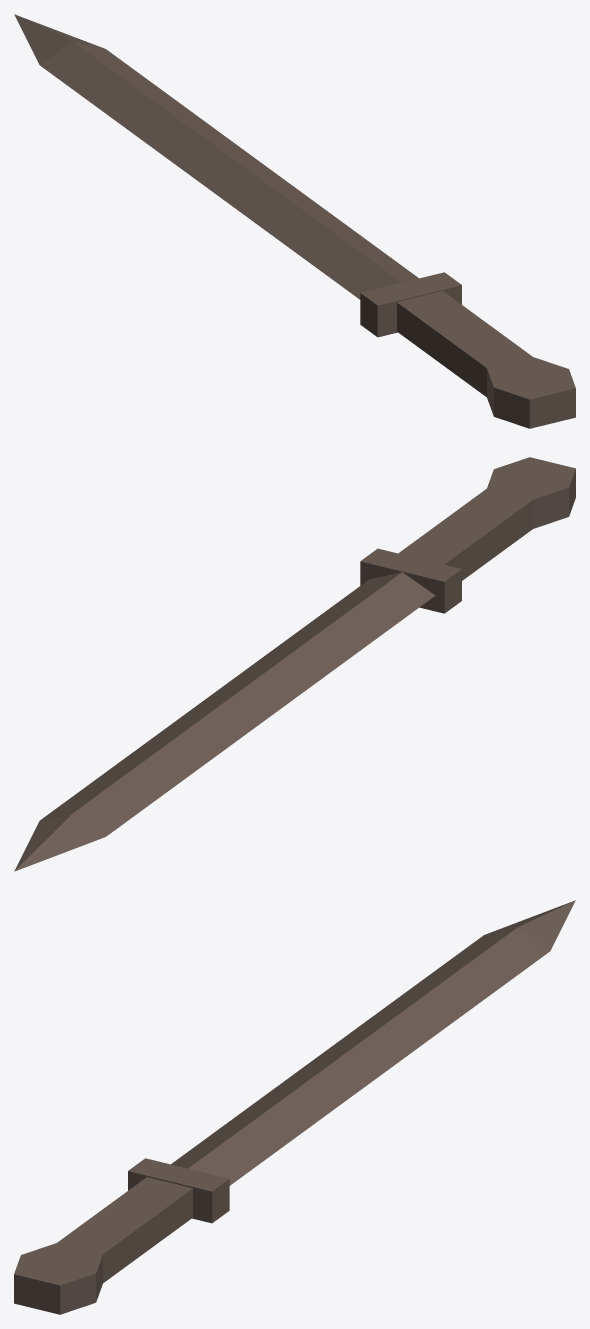
The model's file is Sword1.fbx.glb.
3 views of the same model, one above another, from view 1: azimuth 30°, elevation 25°; view 2: azimuth 150°, elevation 25°; view 3: azimuth 330°, elevation 25° (orthographic).
Parts seen in each view (by area): view 1: Sword1.1; view 2: Sword1.1; view 3: Sword1.1.
Part boxes in pixels (x1,y1,x2,y2): Sword1.1: (14,14,575,428); Sword1.1: (14,457,575,871); Sword1.1: (14,900,575,1314).
Bounding box in the file's own units: 4.36 × 1.57 × 48.22.
